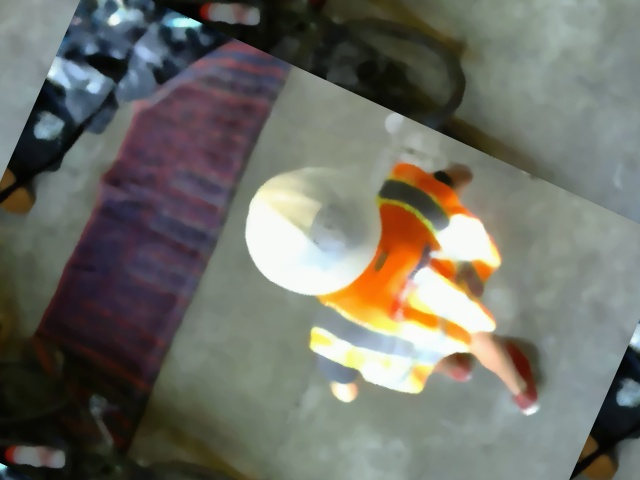three: (305, 198, 362, 259)
